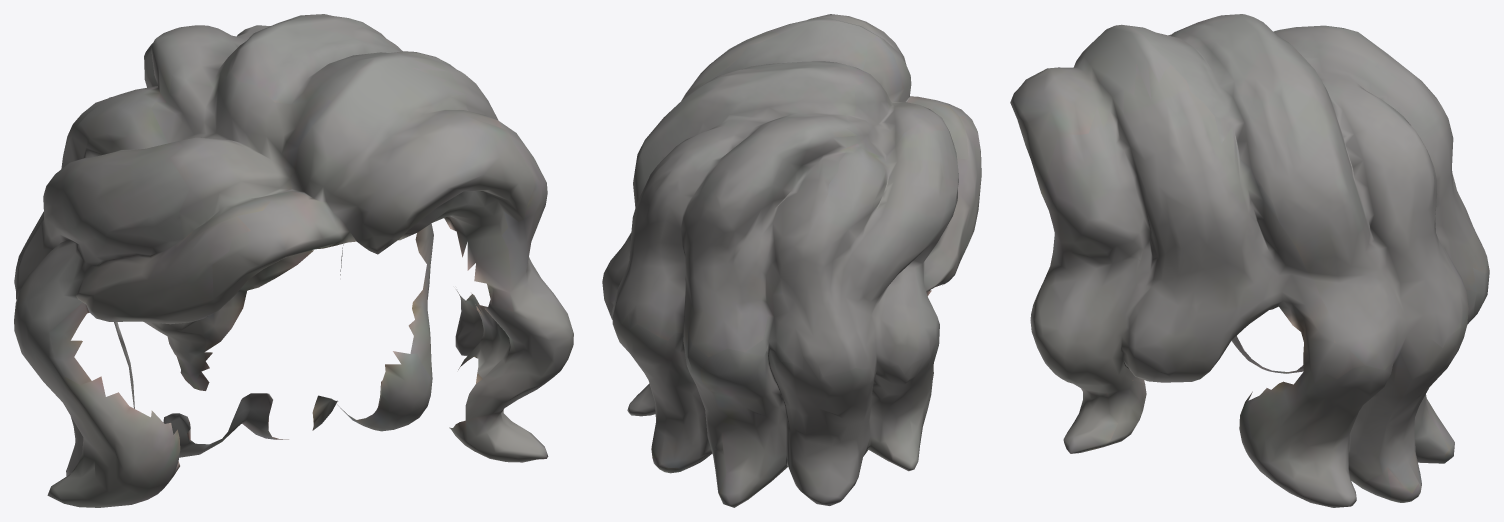
The model's file is hair-m-waves.glb.
The picture shows the model from 3 angles, left to right: view 1: azimuth 30°, elevation 25°; view 2: azimuth 150°, elevation 25°; view 3: azimuth 270°, elevation 25°; orthographic projection. The views are drawn at different scales.
Visible parts, largest first — view 1: hair-m-waves; view 2: hair-m-waves; view 3: hair-m-waves.
Part boxes in pixels (<box>): hair-m-waves: <box>14,14,573,507</box>; hair-m-waves: <box>602,14,981,507</box>; hair-m-waves: <box>1010,14,1489,507</box>.
Bounding box in the file's own units: 1.09 × 1.27 × 1.23.
1 material, 1 textured.
